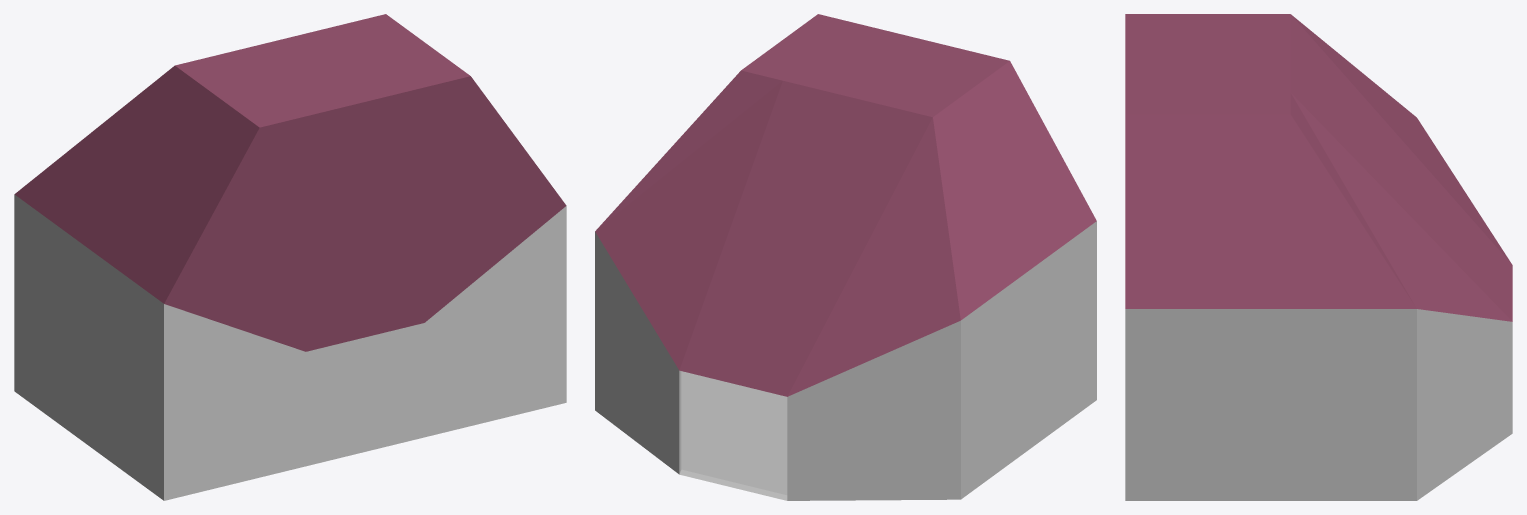
File: house_7.fbx
3 views of the same model, side by side, from view 1: azimuth 30°, elevation 25°; view 2: azimuth 150°, elevation 25°; view 3: azimuth 270°, elevation 25° (orthographic). The views are drawn at different scales.
Visible parts, largest first — view 1: house_7; view 2: house_7; view 3: house_7.
Part boxes in pixels (left/top/right/bottom): house_7: left=14, top=14, right=566, bottom=500; house_7: left=595, top=14, right=1096, bottom=500; house_7: left=1125, top=14, right=1512, bottom=500.
Size of the model in its own units: 886 by 736 by 758.
